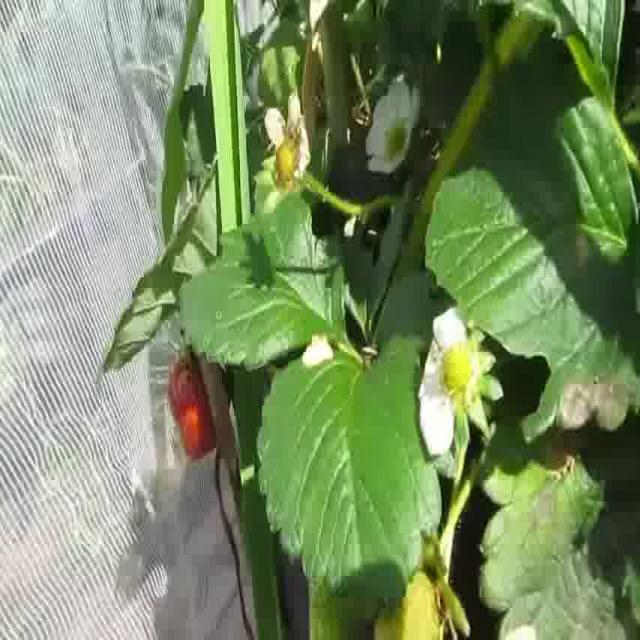Fruta sana: (166, 344, 232, 464), (372, 573, 446, 640), (308, 570, 369, 640)
